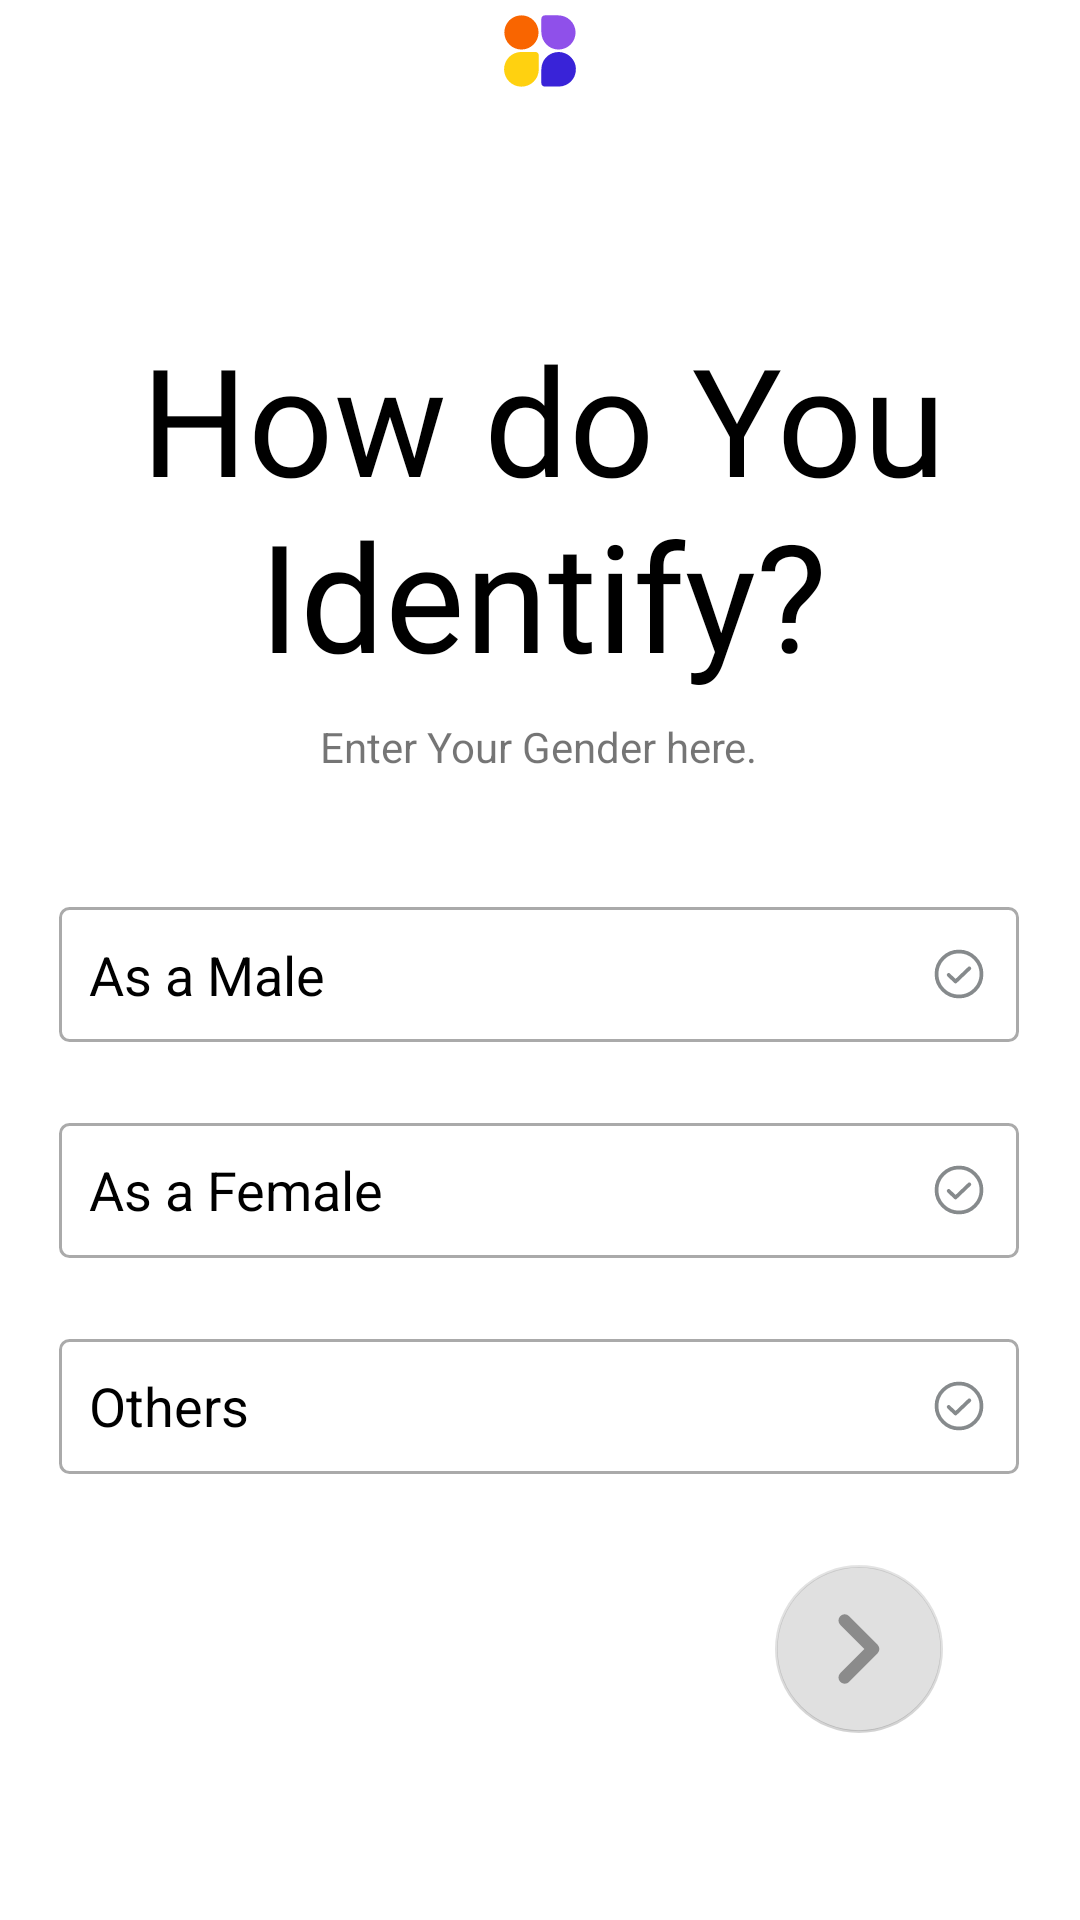

Icons on this 1080px x 1920px Android screen, each with its box as (x1=x1, y1=y1, x2=x2, y2=y2):
Next Activity move: (x1=775, y1=1565, x2=943, y2=1733)
